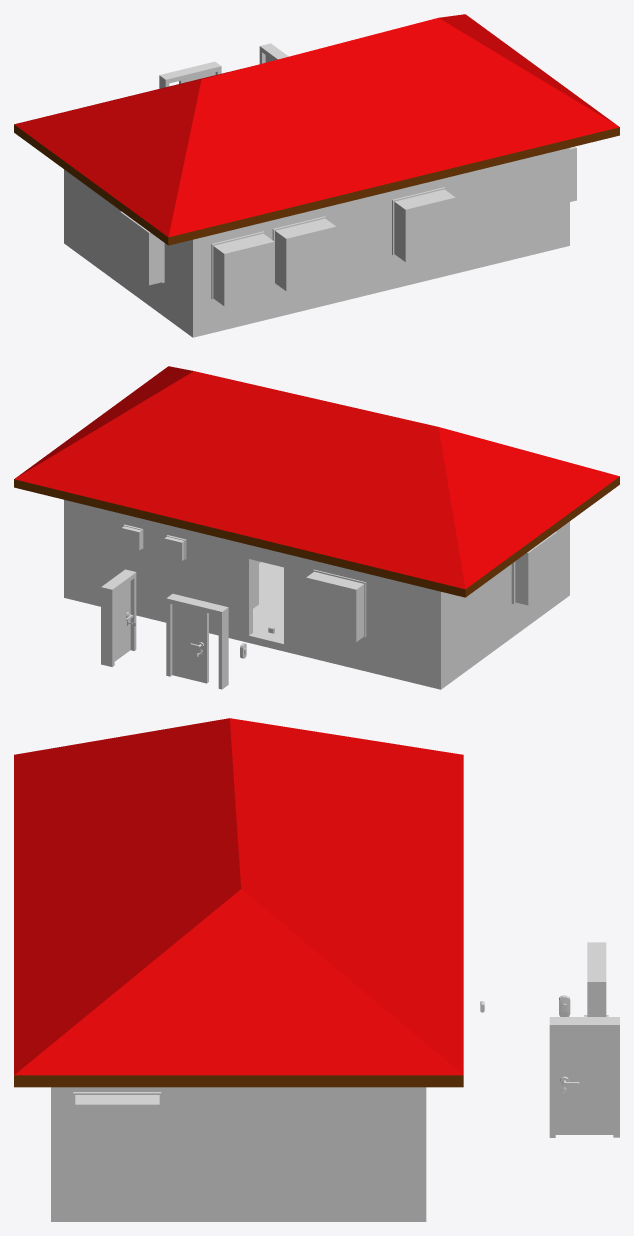
3 views of the same model, one above another, from view 1: azimuth 30°, elevation 25°; view 2: azimuth 150°, elevation 25°; view 3: azimuth 270°, elevation 25° (orthographic). The views are drawn at different scales.
Visible parts, largest first — view 1: Cube, Cube.002, Cube.003, Cube.001, Cube.009, Kapı.003; view 2: Cube, Cube.012, Kapı.002, Cube.009, Kapı.003, Kapı, Kapı.001; view 3: Cube, Cube.004, Kapı.001, Kapı, Kapı.003, Pencere.003.
Boxes of the visible parts, box(x1,y1,x2,y2) form: Cube: box(14, 14, 619, 337); Cube.002: box(213, 233, 274, 306); Cube.003: box(275, 218, 336, 291); Cube.001: box(394, 189, 455, 262); Cube.009: box(120, 211, 162, 285); Kapı.003: box(159, 61, 221, 88); Cube: box(14, 366, 619, 689); Cube.012: box(306, 571, 364, 642); Kapı.002: box(172, 604, 208, 683); Cube.009: box(515, 531, 557, 605); Kapı.003: box(166, 594, 228, 689); Kapı: box(101, 569, 136, 666); Kapı.001: box(114, 581, 130, 661); Cube: box(14, 718, 463, 1221); Cube.004: box(75, 1095, 159, 1180); Kapı.001: box(555, 1031, 613, 1134); Kapı: box(549, 1017, 619, 1137); Kapı.003: box(587, 942, 606, 1016); Pencere.003: box(73, 1092, 161, 1173).
Size of the model in its own units: 1293 by 537 by 1033.
